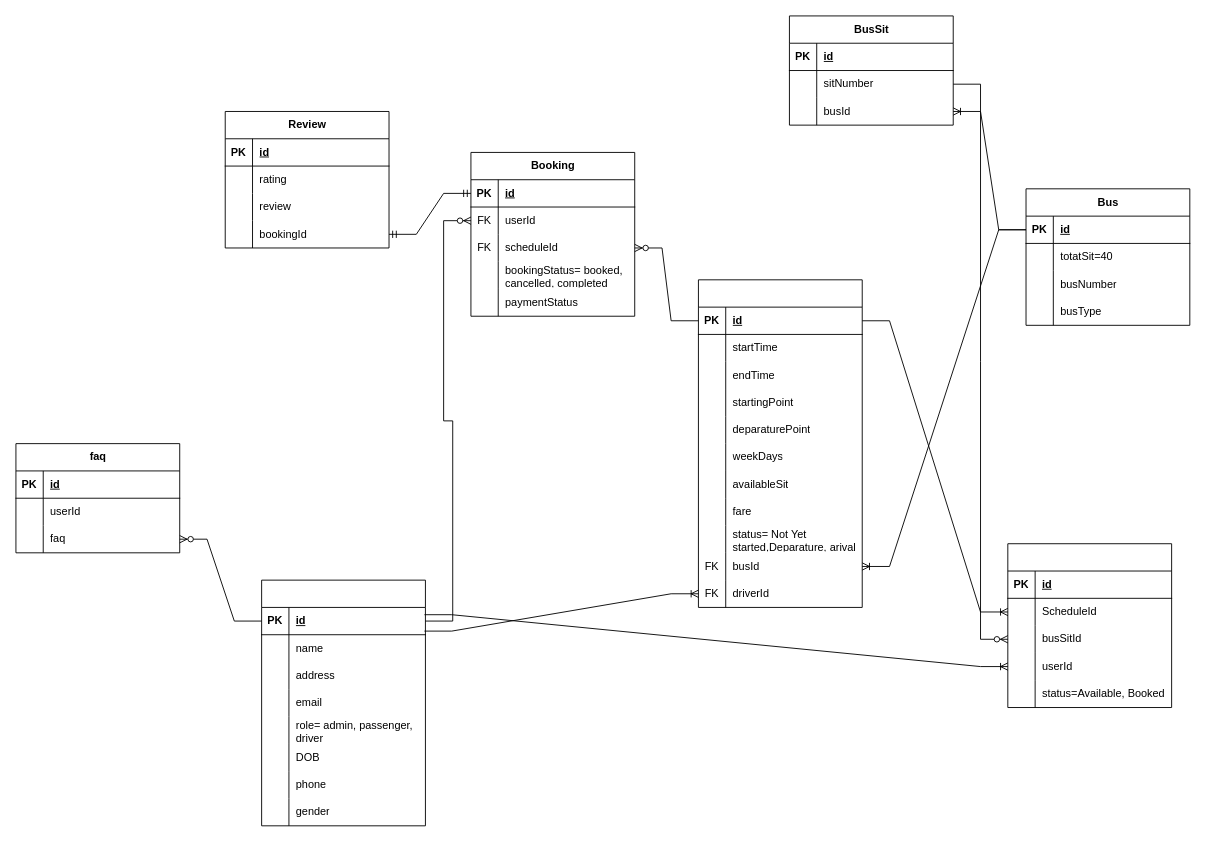
The diagram is 1206 pixels wide and 842 high, and some of its shapes have lost their labels. The shapes that lost their labels are listed below. From the top down, each one's box as (x1, y1, x2, y2) in pixels, then its label:
(698, 279, 862, 607): Schedule
(1007, 543, 1172, 708): availabbleSit
(261, 579, 425, 826): user
